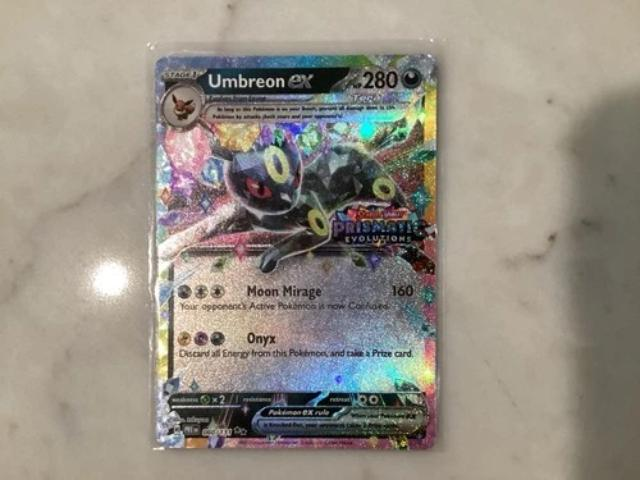Card: (149, 47, 444, 455)
Name: (205, 68, 320, 94)
